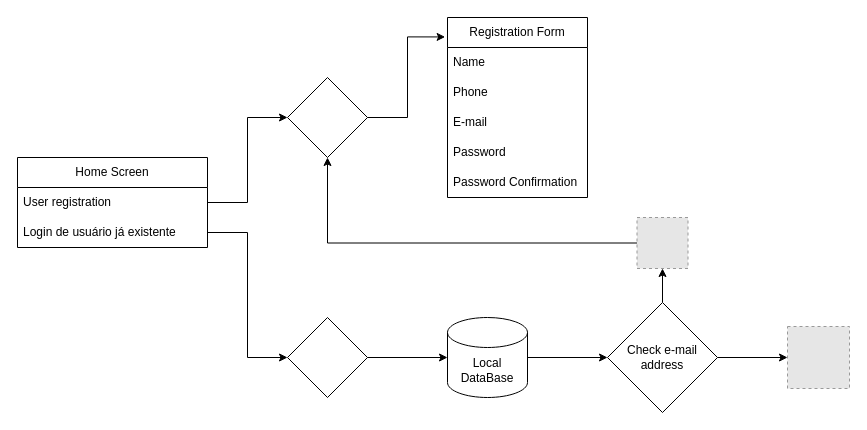
The diagram is 867 pixels wide and 430 high, and some of its shapes have lost their labels. Grey dashed boxes stand in for pictures. The shapes that lost their labels are listed below. From the top down, each one's centre as x and y in pixels, then its label:
At (327,117): "Create Form".
At (327,357): "Verification Node".
